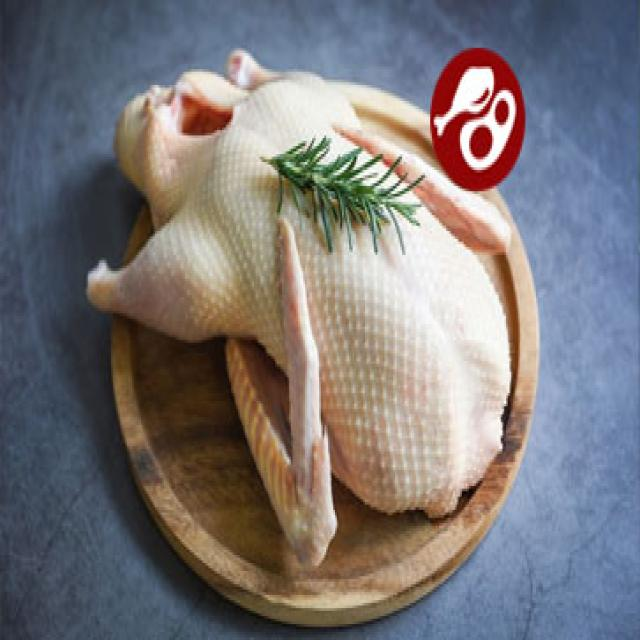duck: (88, 53, 510, 566)
